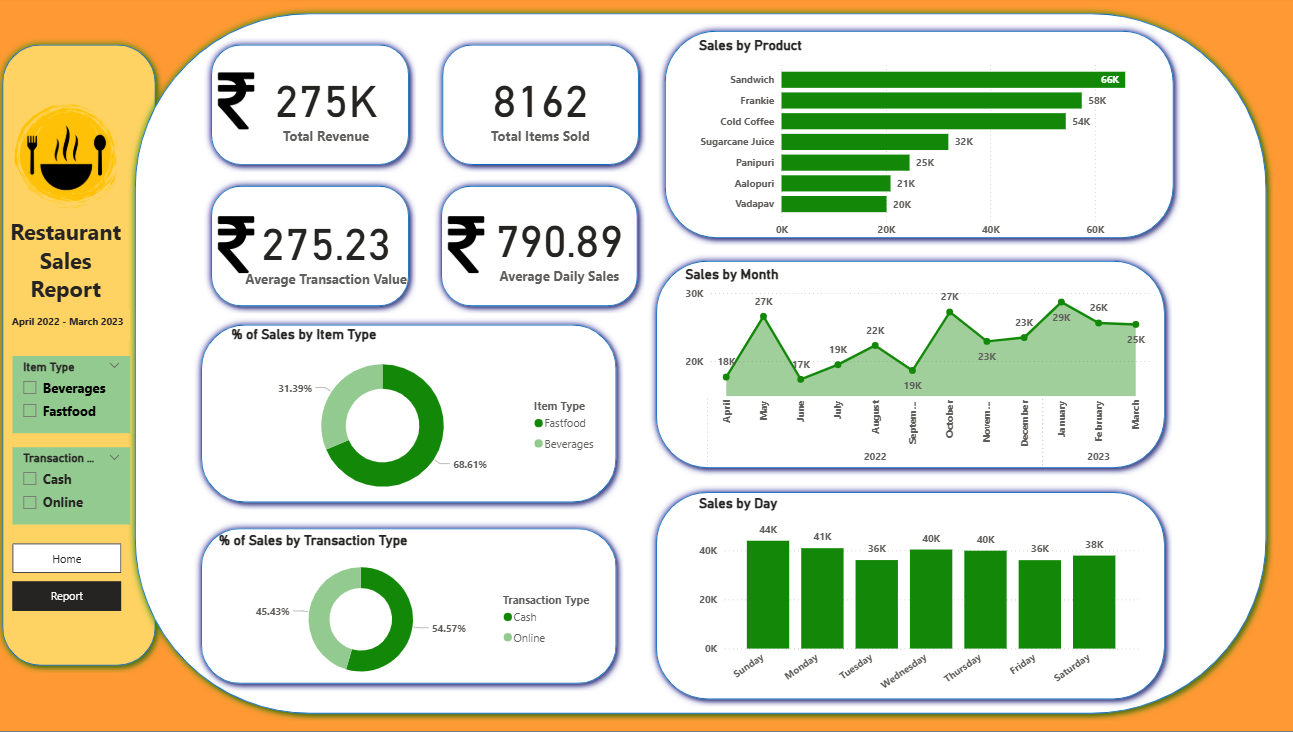

This screenshot's page, from the dashboard's own definition file:
{"tool":"powerbi","page":{"name":"Report","canvas":[1600,900],"ordinal":1},"visuals":[{"type":"shape","box":[201.8,415.8,210.3,167.5],"z":0},{"type":"shape","box":[0,0,1600.4,900.3],"z":1000},{"type":"shape","box":[0,50.4,205.2,777.4],"z":2000},{"type":"shape","box":[162,12.2,1401.7,874.3],"z":3000},{"type":"shape","box":[255.3,50.4,259.9,165],"z":4000},{"type":"card","fields":{"Values":["Sum(public Restaurant_Sales_Report_Cleaned.transaction_amount)"]},"box":[295,58.1,220.1,149.8],"z":5000},{"type":"shape","box":[538,50.4,258.3,165.1],"z":6000},{"type":"shape","box":[255.3,223.2,259.9,165.1],"z":7000},{"type":"shape","box":[536.5,223.2,258.3,165.1],"z":8000},{"type":"card","fields":{"Values":["Sum(public Restaurant_Sales_Report_Cleaned.quantity)"]},"box":[547.2,45.9,240,174.3],"z":9000},{"type":"card","fields":{"Values":["public Restaurant_Sales_Report_Cleaned.Average Transaction Value"]},"box":[285.8,223.2,238.5,169.7],"z":10000},{"type":"card","fields":{"Values":["public Restaurant_Sales_Report_Cleaned.Sum of transaction_amount average per date"]},"box":[570.1,221.6,240,165.1],"z":11000},{"type":"shape","box":[810.4,33,640,271.3],"z":12000},{"type":"shape","box":[243,392.8,525.8,235.4],"z":13000},{"type":"shape","box":[800,314.8,640,271.3],"z":14000},{"type":"areaChart","title":"Sales by Month","fields":{"Y":["Sum(public Restaurant_Sales_Report_Cleaned.transaction_amount)"],"Category":["public Restaurant_Sales_Report_Cleaned.date.Variation.Date Hierarchy.Year","public Restaurant_Sales_Report_Cleaned.date.Variation.Date Hierarchy.Month"]},"box":[839.2,330.2,579.3,255.3],"z":15000},{"type":"donutChart","title":"% of Sales by Item Type","fields":{"Category":["public Restaurant_Sales_Report_Cleaned.item_type"],"Y":["Sum(public Restaurant_Sales_Report_Cleaned.transaction_amount)"]},"box":[284.3,403.5,461.6,224.7],"z":16000},{"type":"shape","box":[243,642,525.8,207.9],"z":17000},{"type":"barChart","title":"Sales by Product","fields":{"Category":["public Restaurant_Sales_Report_Cleaned.item_name"],"Y":["Sum(public Restaurant_Sales_Report_Cleaned.transaction_amount)"]},"box":[856,50.4,571.7,253.7],"z":18000},{"type":"donutChart","title":"% of Sales by Transaction Type","fields":{"Y":["Sum(public Restaurant_Sales_Report_Cleaned.transaction_amount)"],"Category":["public Restaurant_Sales_Report_Cleaned.transaction_type"]},"box":[269,655.7,476.9,194.1],"z":19000},{"type":"shape","box":[800,598.3,640,271.3],"z":20000},{"type":"columnChart","title":"Sales by Day","fields":{"Y":["Sum(public Restaurant_Sales_Report_Cleaned.transaction_amount)"],"Category":["public Restaurant_Sales_Report_Cleaned.Day Name"]},"box":[856,609.9,547.2,258.3],"z":21000},{"type":"image","box":[255.3,88.7,79.5,79.5],"z":22000},{"type":"image","box":[255.3,264.4,79.5,79.5],"z":23000},{"type":"image","box":[536.5,264.4,79.5,79.5],"z":24000},{"type":"image","box":[0,111.6,174.3,168.1],"z":25000},{"type":"textbox","box":[10.7,264.4,151.3,122.3],"z":26000},{"type":"slicer","fields":{"Values":["public Restaurant_Sales_Report_Cleaned.item_type"]},"box":[21.4,440.2,143.7,94.8],"z":27000},{"type":"slicer","fields":{"Values":["public Restaurant_Sales_Report_Cleaned.transaction_type"]},"box":[21.4,551.8,143.7,94.8],"z":28000},{"type":"textbox","box":[12.2,384.3,153,38.3],"z":29000},{"type":"pageNavigator","box":[20.9,669.6,133.9,83.5],"z":30000}]}

Visuals, with their boxes in screenshot pixels (x1, y1, x2, y2), scaled from the page's 1600x900 canvas onto the 1293x732 screenshot:
shape: 163, 338, 333, 474
shape: 0, 0, 1292, 731
shape: 0, 41, 166, 673
shape: 131, 10, 1264, 721
shape: 206, 41, 416, 175
card - Sum(public Restaurant_Sales_Report_Cleaned.transaction_amount): 238, 47, 416, 169
shape: 435, 41, 644, 175
shape: 206, 182, 416, 316
shape: 434, 182, 642, 316
card - Sum(public Restaurant_Sales_Report_Cleaned.quantity): 442, 37, 636, 179
card - public Restaurant_Sales_Report_Cleaned.Average Transaction Value: 231, 182, 424, 320
card - public Restaurant_Sales_Report_Cleaned.Sum of transaction_amount average per date: 461, 180, 655, 315
shape: 655, 27, 1172, 247
shape: 196, 319, 621, 511
shape: 646, 256, 1164, 477
"Sales by Month" areaChart: 678, 269, 1146, 476
"% of Sales by Item Type" donutChart: 230, 328, 603, 511
shape: 196, 522, 621, 691
"Sales by Product" barChart: 692, 41, 1154, 247
"% of Sales by Transaction Type" donutChart: 217, 533, 603, 691
shape: 646, 487, 1164, 707
"Sales by Day" columnChart: 692, 496, 1134, 706
image: 206, 72, 271, 137
image: 206, 215, 271, 280
image: 434, 215, 498, 280
image: 0, 91, 141, 227
textbox: 9, 215, 131, 315
slicer - public Restaurant_Sales_Report_Cleaned.item_type: 17, 358, 133, 435
slicer - public Restaurant_Sales_Report_Cleaned.transaction_type: 17, 449, 133, 526
textbox: 10, 313, 134, 344
pageNavigator: 17, 545, 125, 613
